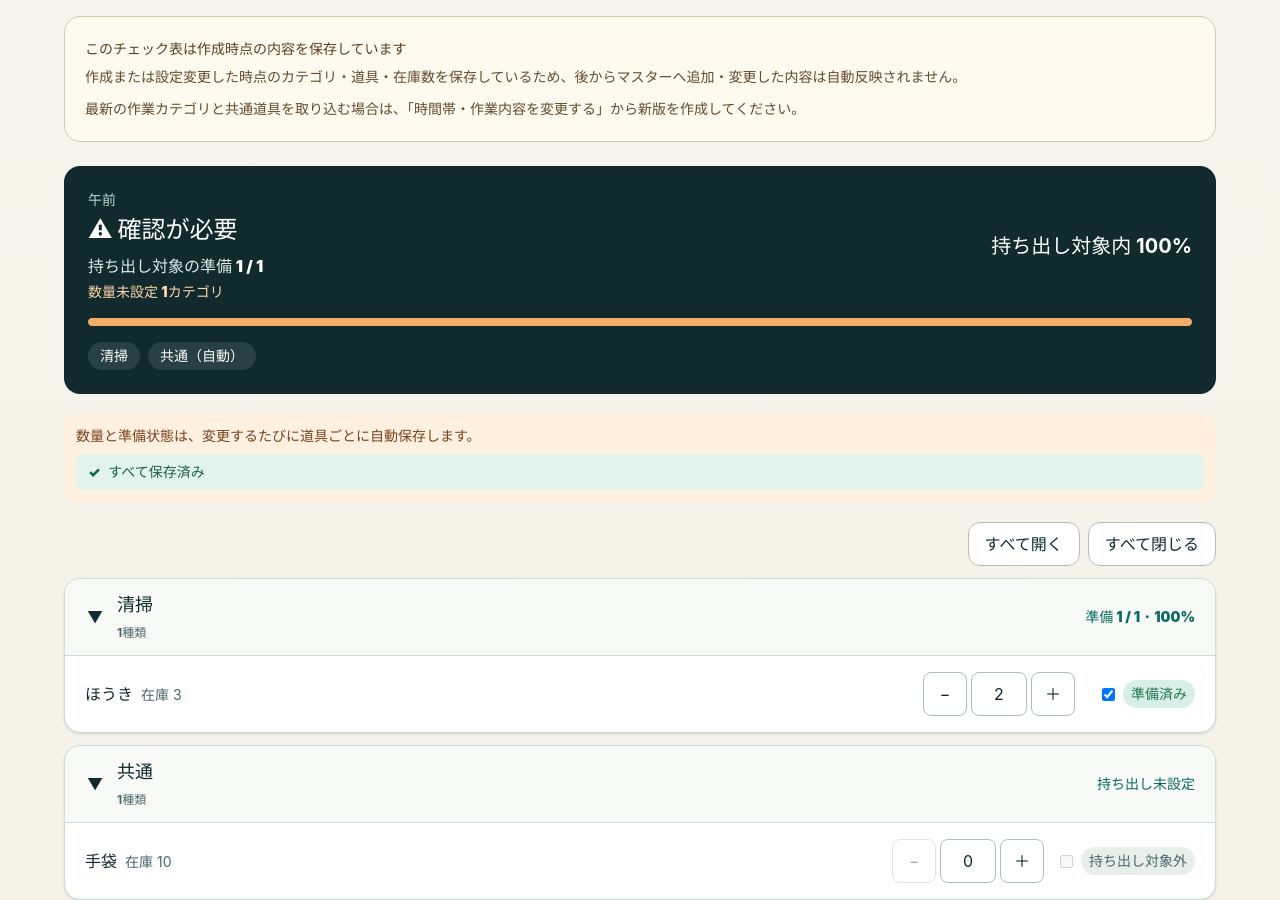
Scenario: DailyChecklistView › 数量の0と1を行き来すると、対象外・未準備を切り替えて準備済みを解除する
The width and height of the screenshot is (1280, 900).
(page scrolled)
Click the button named "手袋を1増やす": click(1022, 861) [1000,839,1044,883]
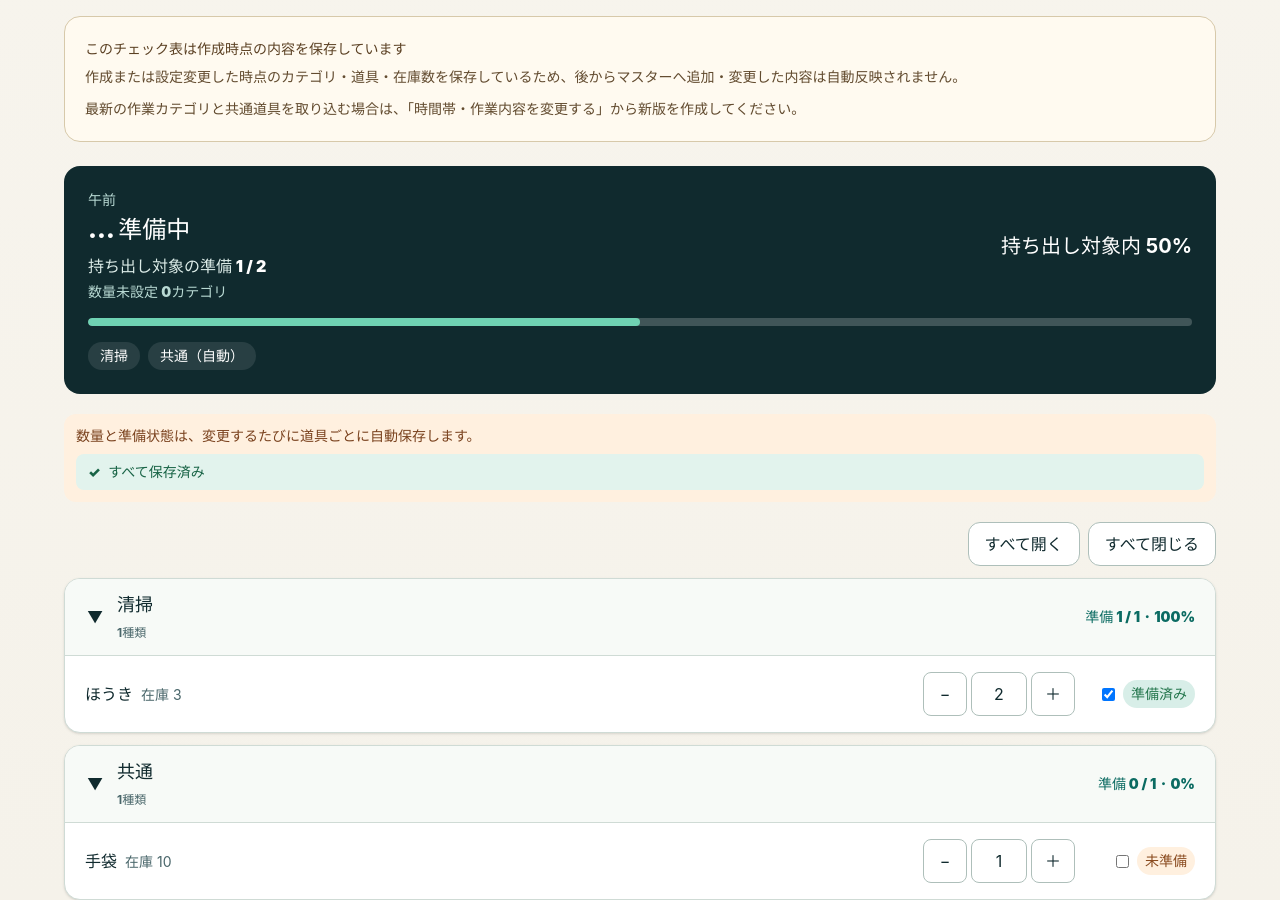
Expected: the message named "自動保存の状態" shows "すべて保存済み", [108,463,205,480]
Expected: the checkbox named "手袋を準備済みにする" is enabled
Expected: the text "未準備" is shown, [1137,847,1195,875]
Click the checkbox named "手袋を準備済みにする": click(1122, 861) [1116,854,1129,868]
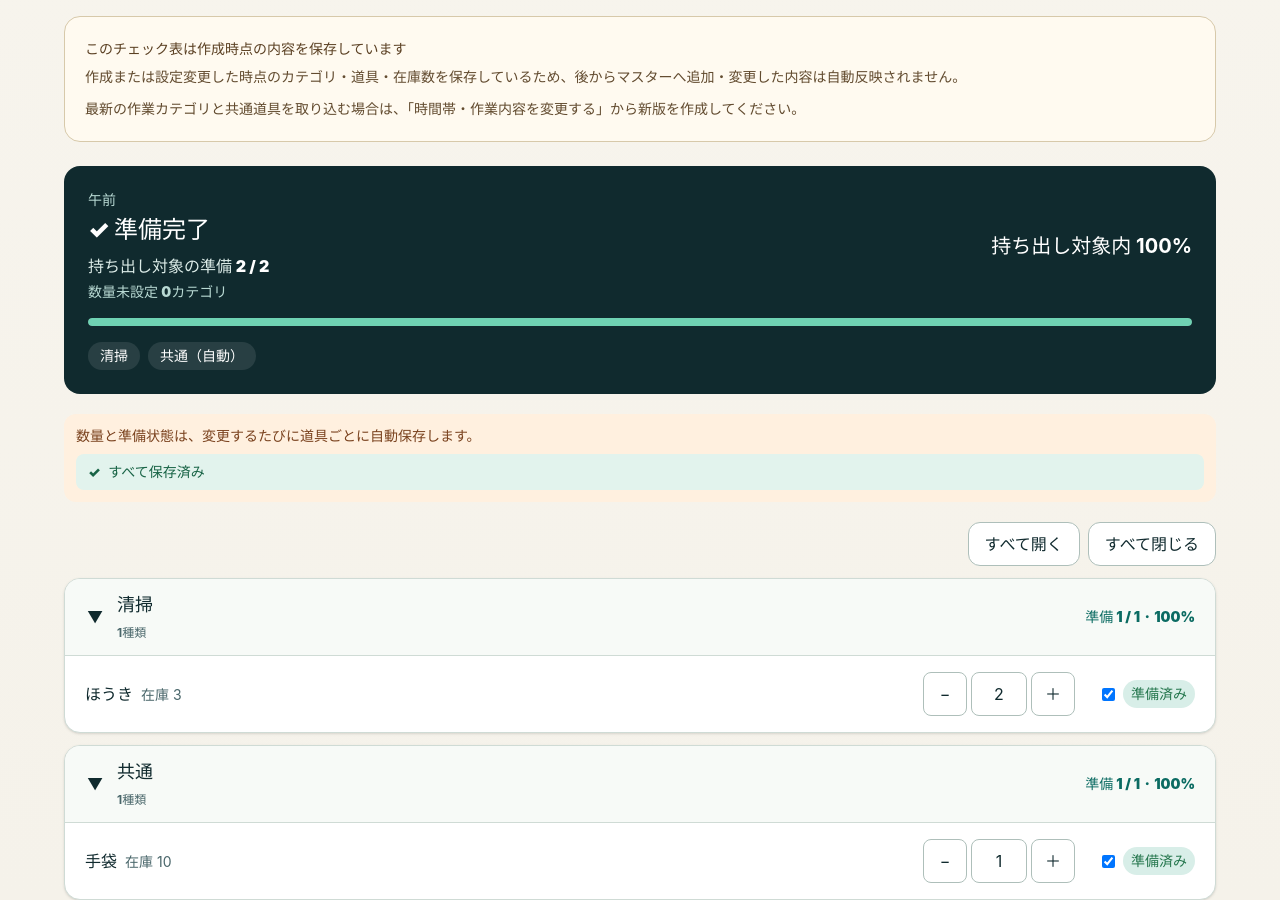
Expected: the text "準備済み" is shown 2 times, [1123,680,1195,708]; [1123,847,1195,875]
Expected: the message named "自動保存の状態" shows "すべて保存済み", [108,463,205,480]
Replace the text in the number field named "手袋の持ち出し数" with "0": (999, 861) [971,839,1027,883]
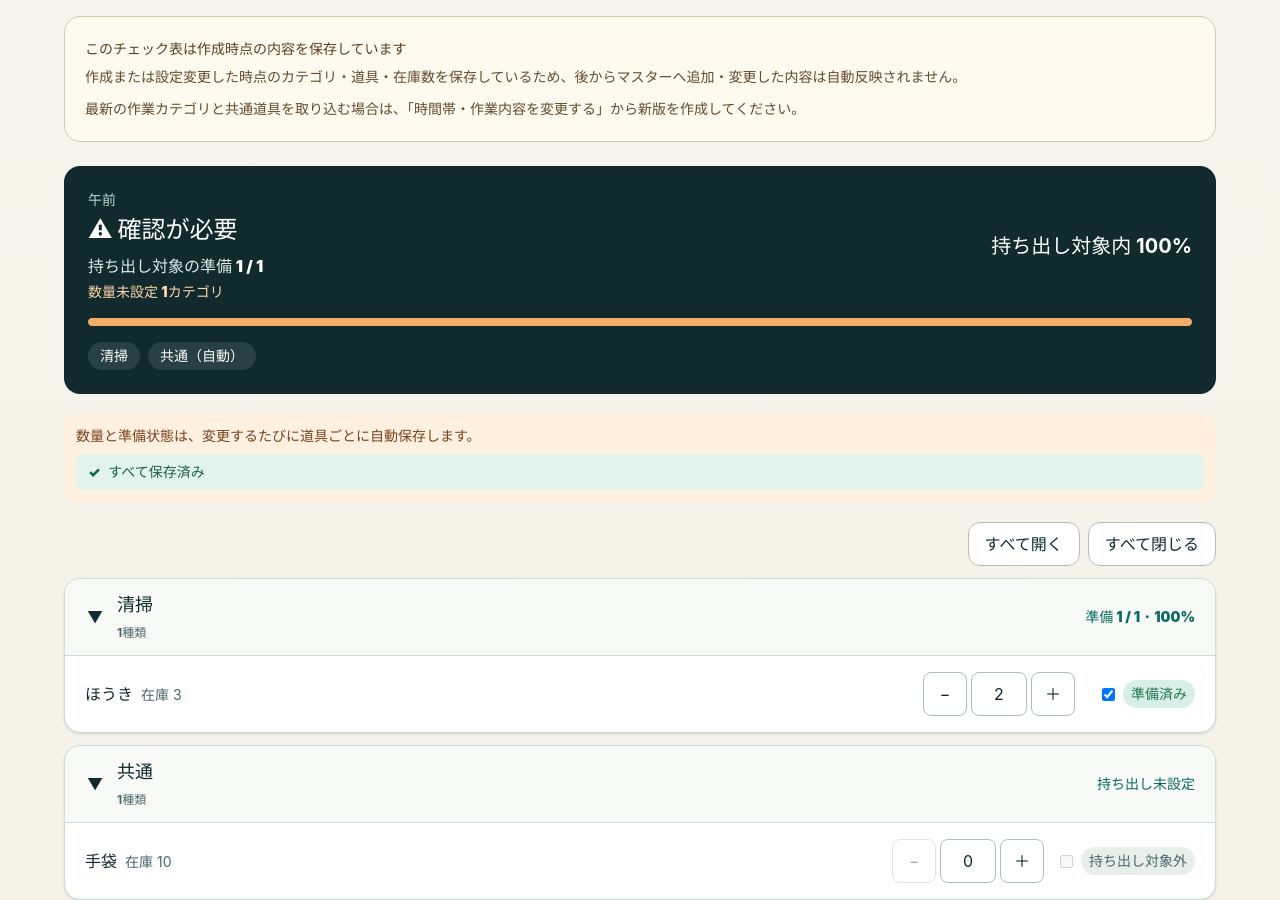
Expected: the checkbox named "手袋は持ち出し対象外" is not checked, [1060,854,1073,868]
Expected: the checkbox named "手袋は持ち出し対象外" is disabled, [1060,854,1073,868]
Expected: the text "持ち出し対象外" is shown, [1081,847,1195,875]
